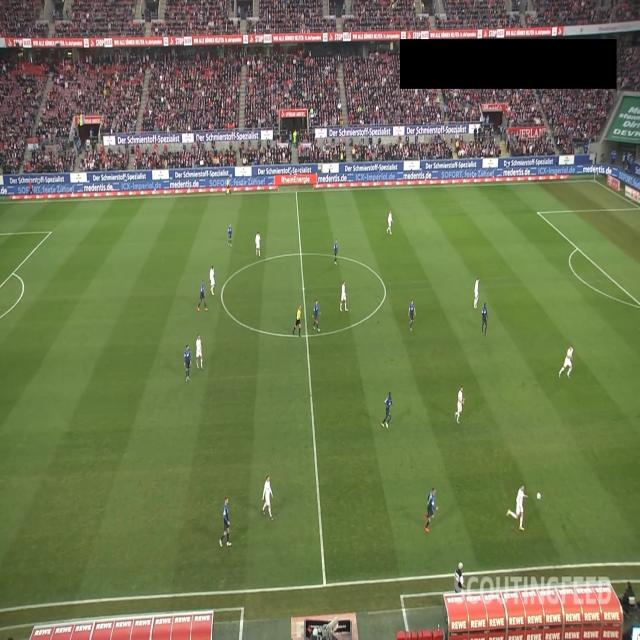ball: (536, 492, 542, 501)
